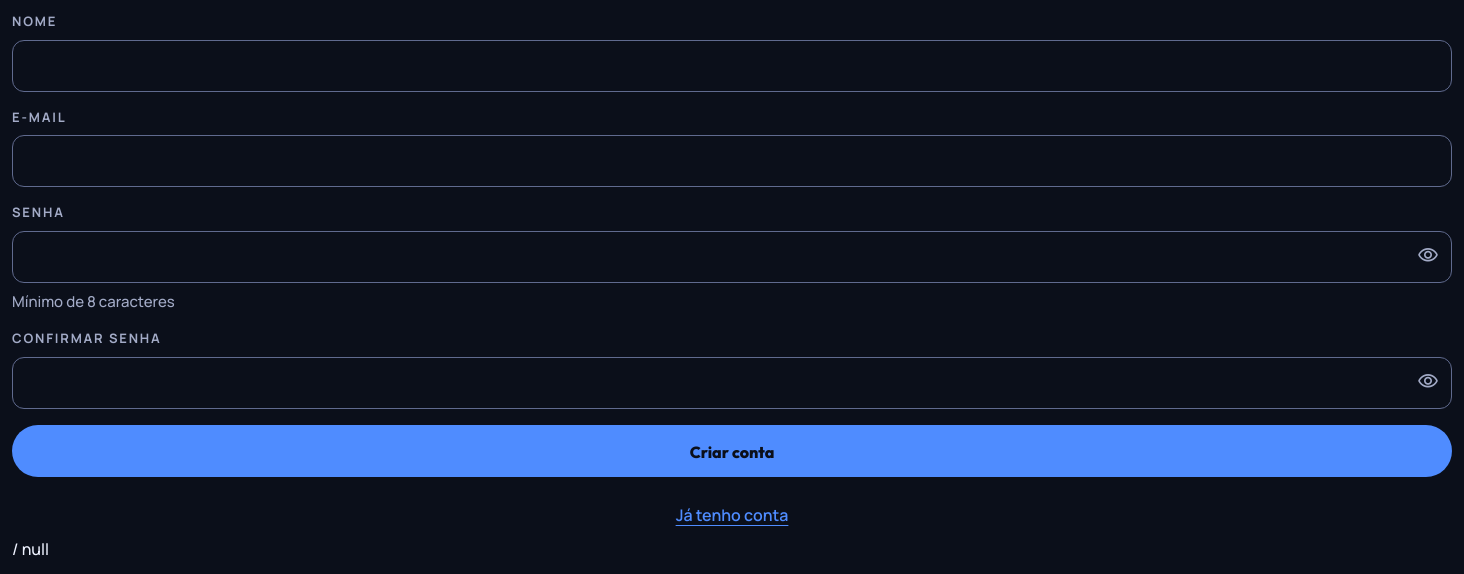
RegistroForm — validação local › senha curta: o erro da senha vem primeiro (a confirmação só é cobrada com a senha ok)
In the field labelled "Nome": point(732, 66) x1=12 y1=40 x2=1452 y2=92, type "Ana Teste"
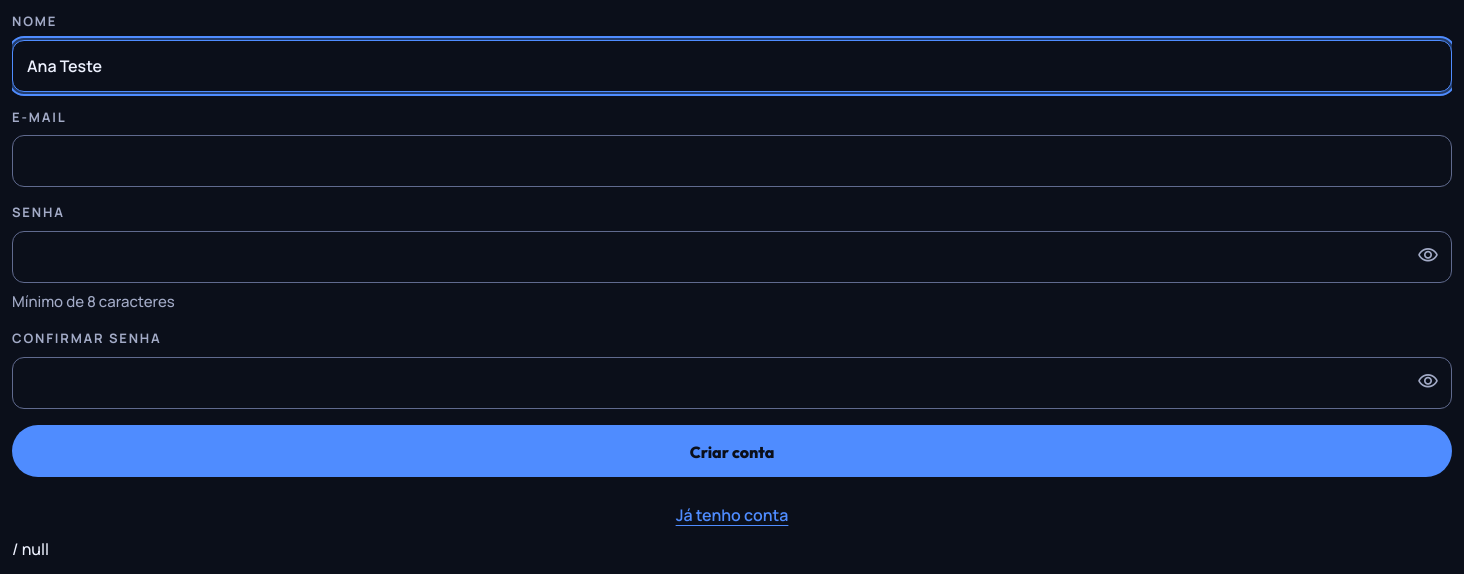
In the field labelled "E-mail": point(732, 161) x1=12 y1=135 x2=1452 y2=187, type "ana@exemplo.com"
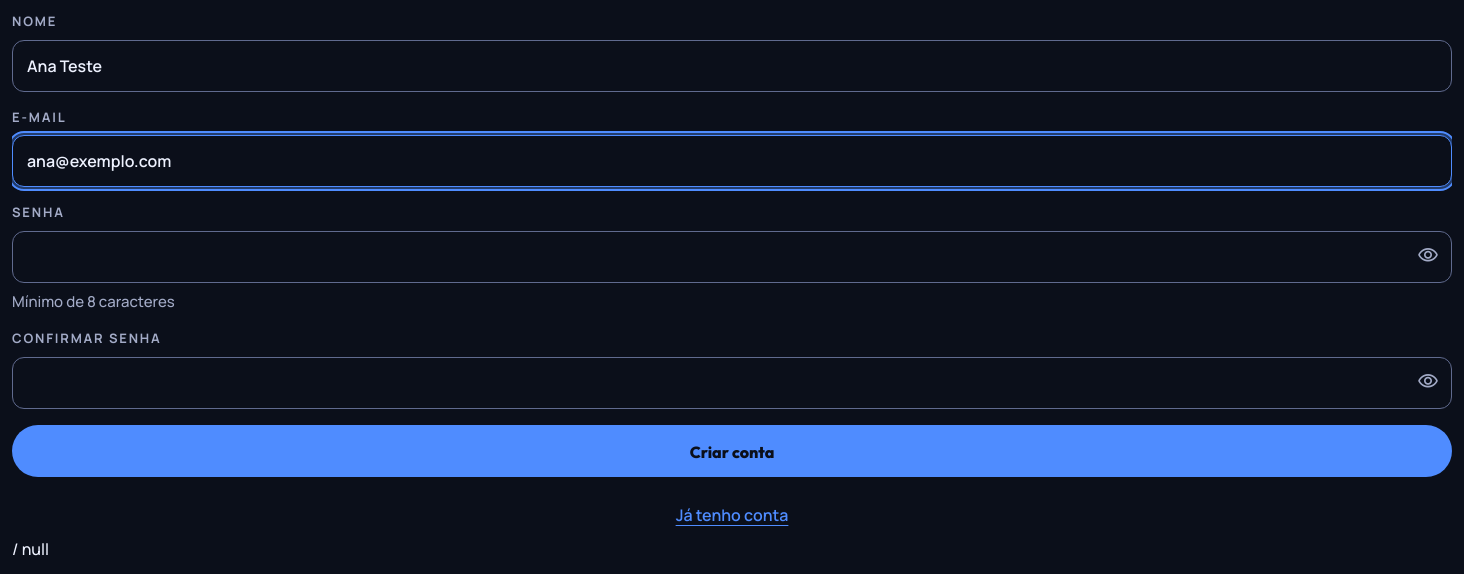
In the password field labelled "Senha": point(732, 256) x1=12 y1=230 x2=1452 y2=282, type "1234567"
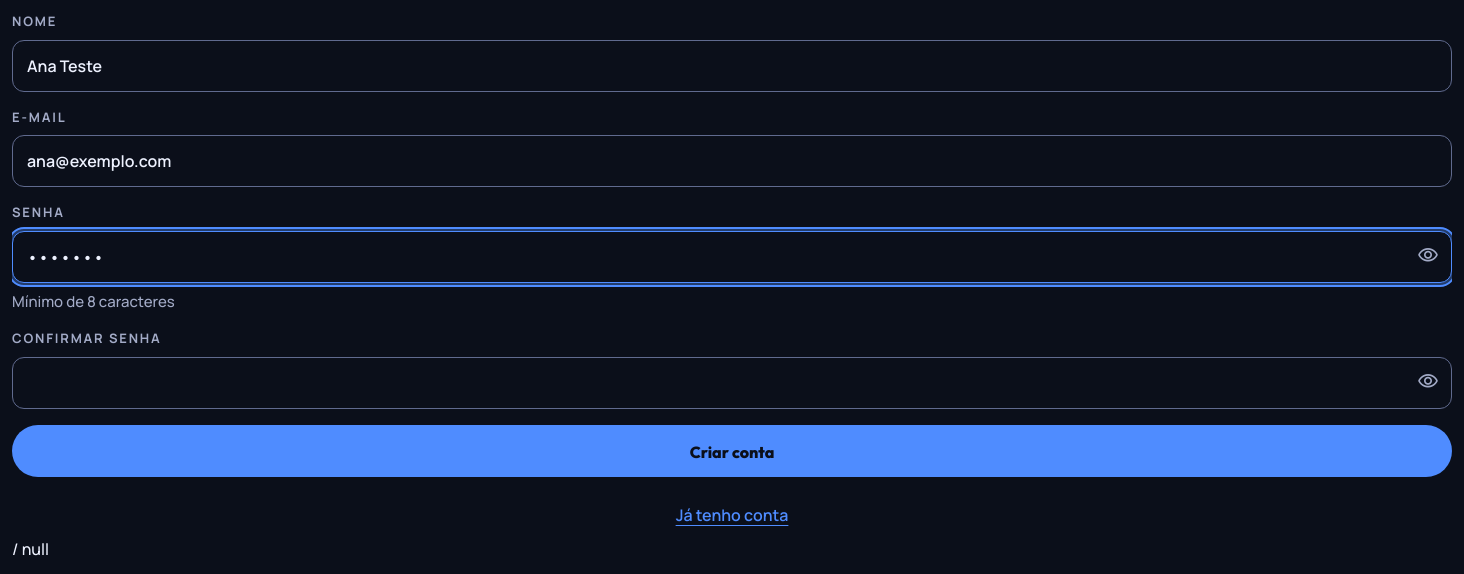
In the password field labelled "Confirmar senha": point(732, 382) x1=12 y1=356 x2=1452 y2=408, type "outra-coisa"
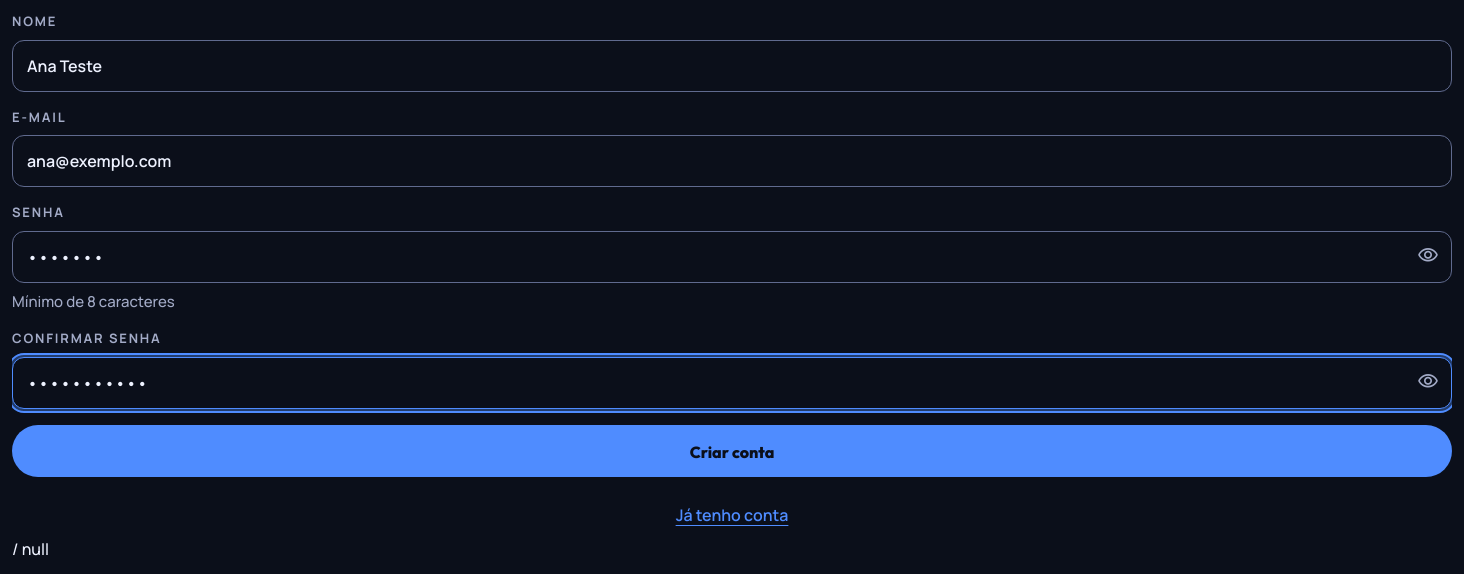
Click the button "Criar conta": point(732, 450) x1=12 y1=424 x2=1452 y2=476
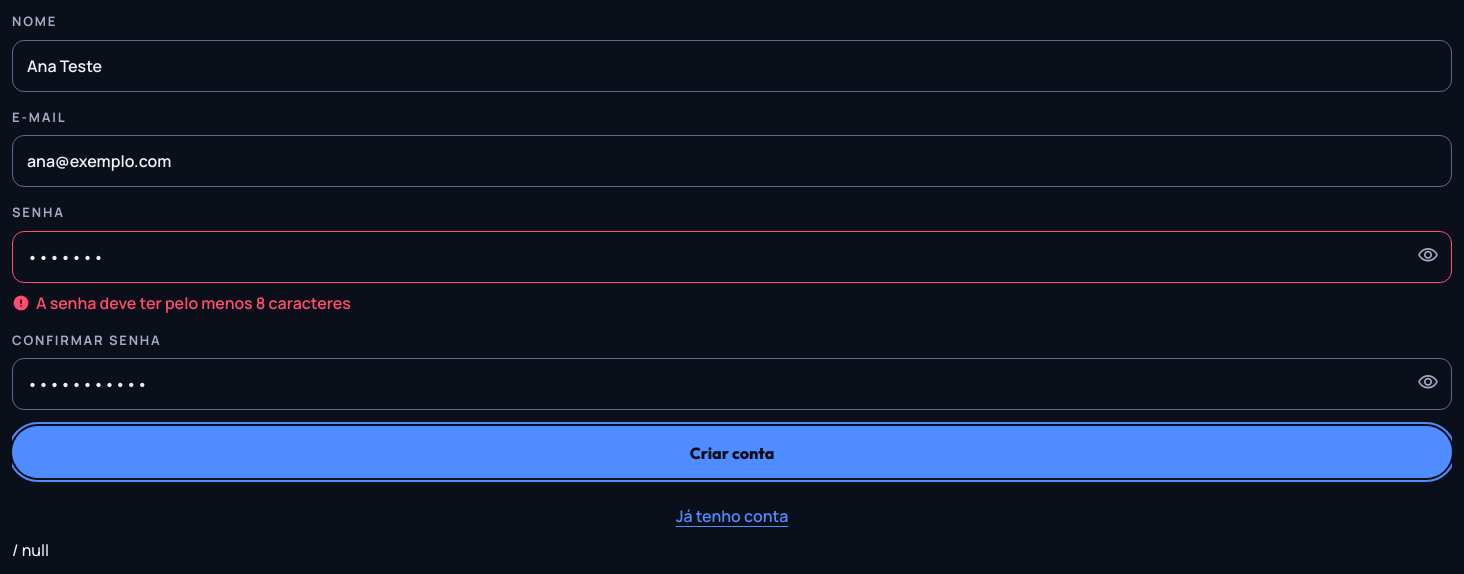
Now the text "A senha deve ter pelo menos 8 caracteres" is shown, box x1=12 y1=292 x2=351 y2=314
